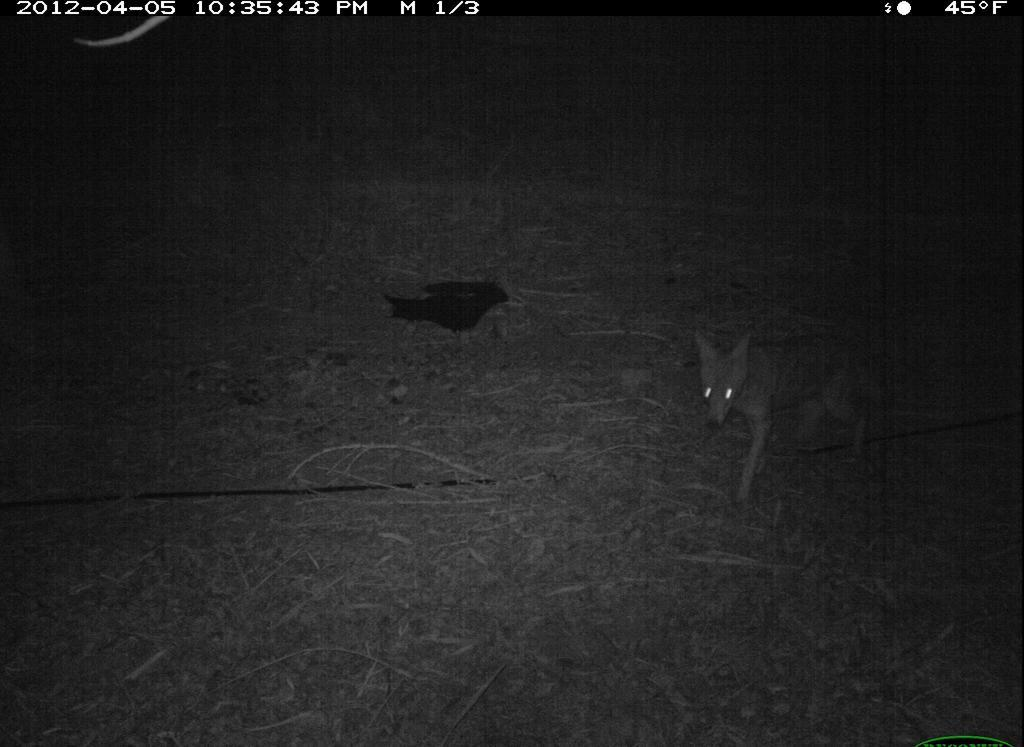coyote: (684, 322, 895, 502)
